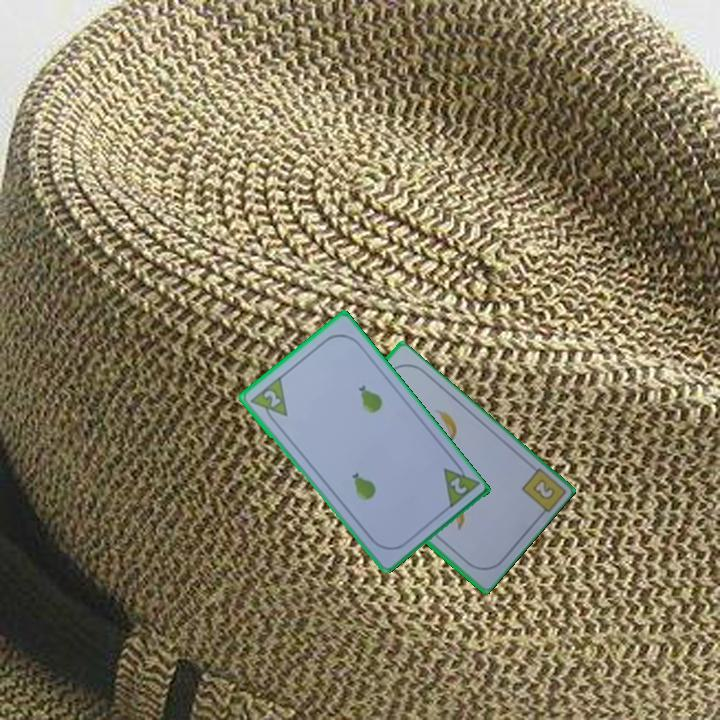2b: (528, 475, 558, 503)
2p: (246, 373, 290, 427), (446, 473, 470, 497)
